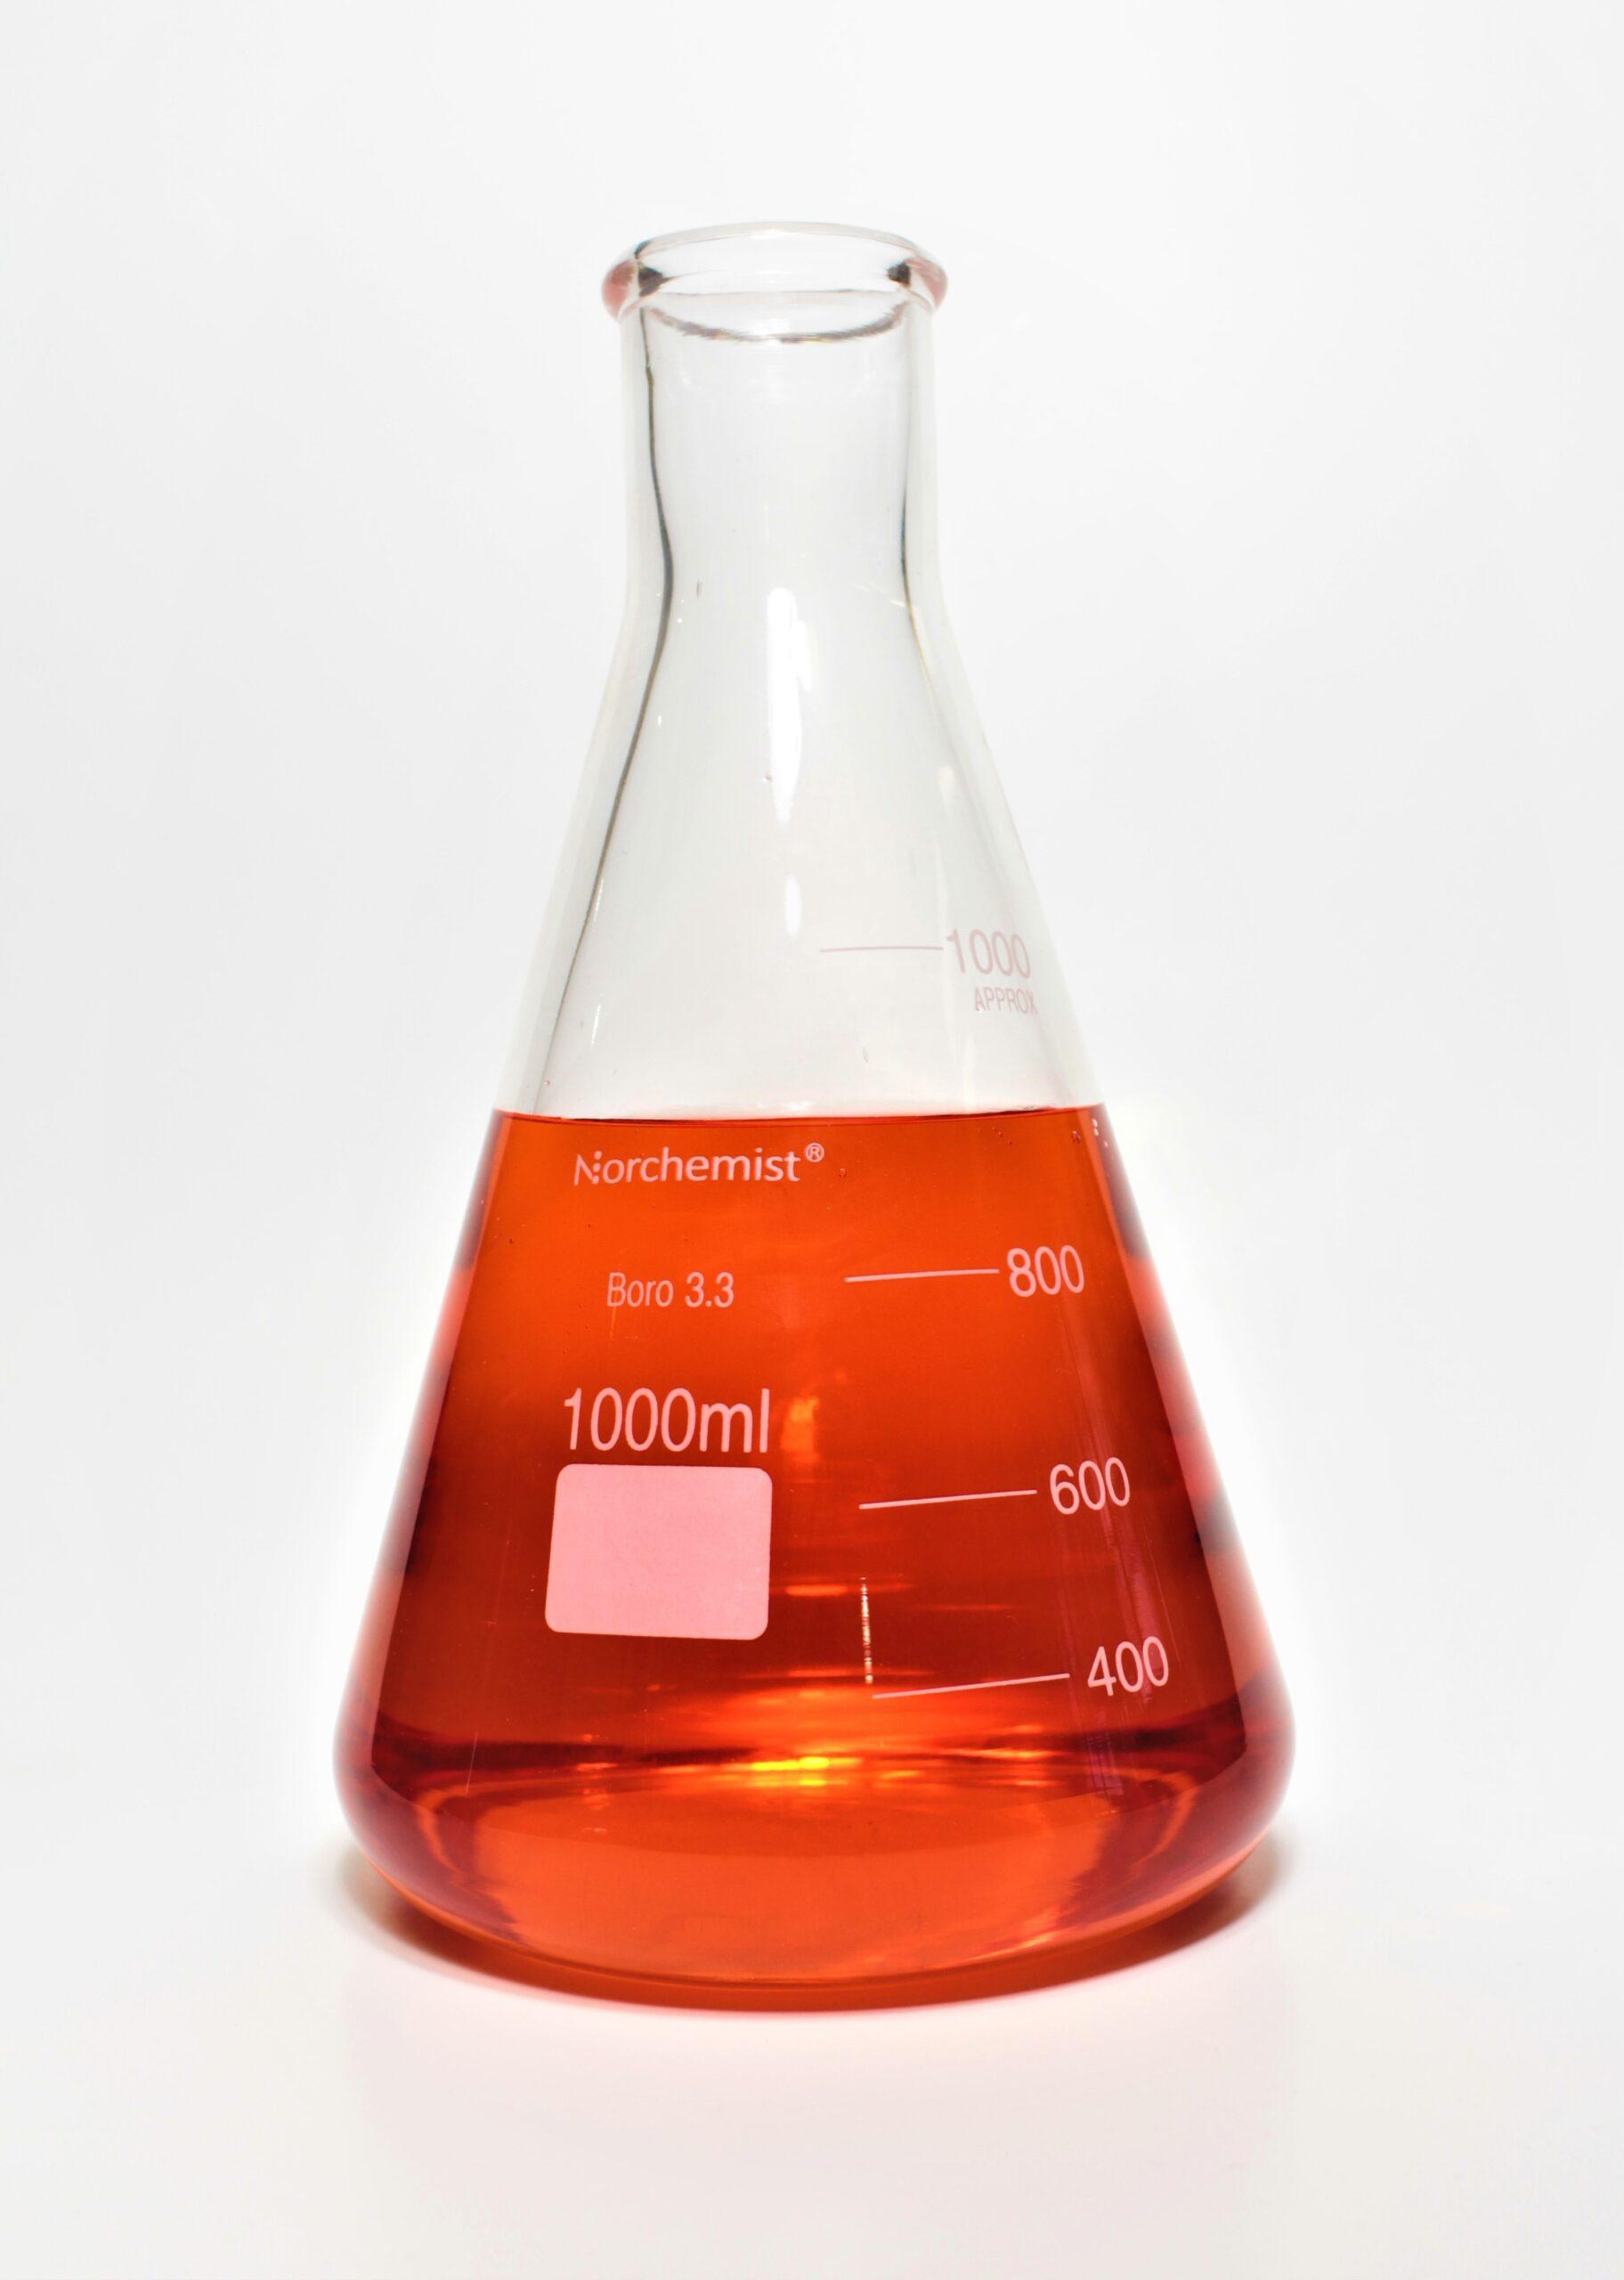Titrarion: (325, 183, 1309, 1972)
